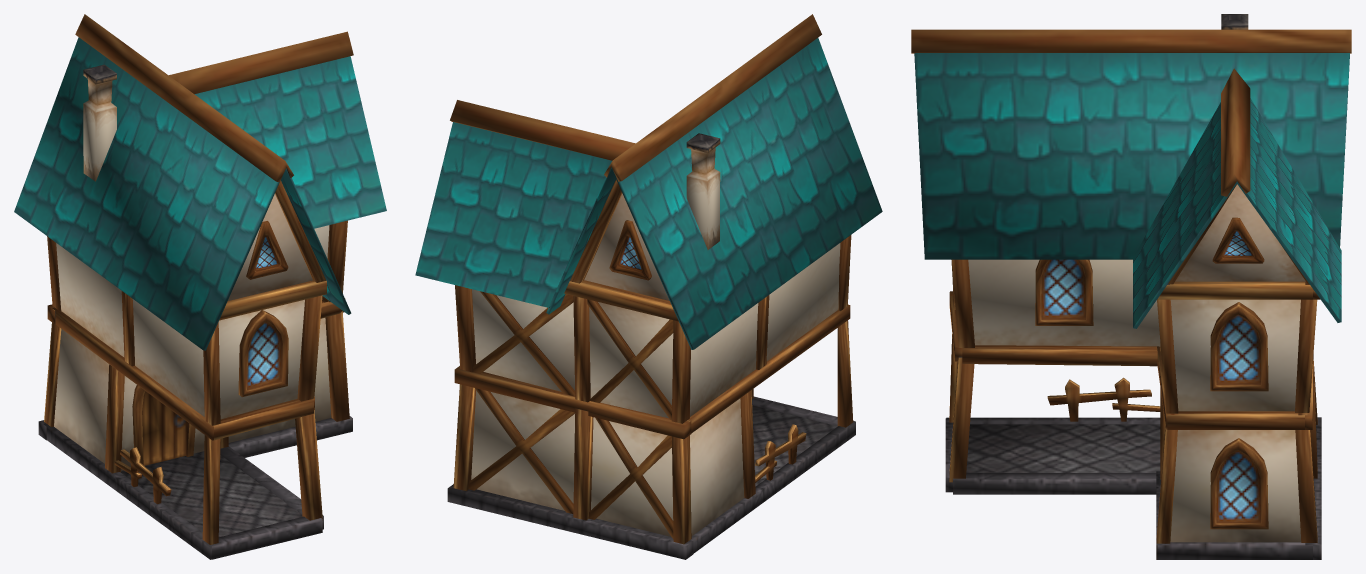
The model's file is building_2_5.FBX.
3 views of the same model, side by side, from view 1: azimuth 30°, elevation 25°; view 2: azimuth 150°, elevation 25°; view 3: azimuth 270°, elevation 25° (orthographic). The views are drawn at different scales.
Parts seen in each view (by area): view 1: building_2_5; view 2: building_2_5; view 3: building_2_5.
Boxes of the visible parts, bbox=[...] form: building_2_5: bbox=[14, 14, 386, 559]; building_2_5: bbox=[415, 14, 882, 559]; building_2_5: bbox=[911, 14, 1351, 559].
Bounding box in the file's own units: 267 × 354 × 325.
